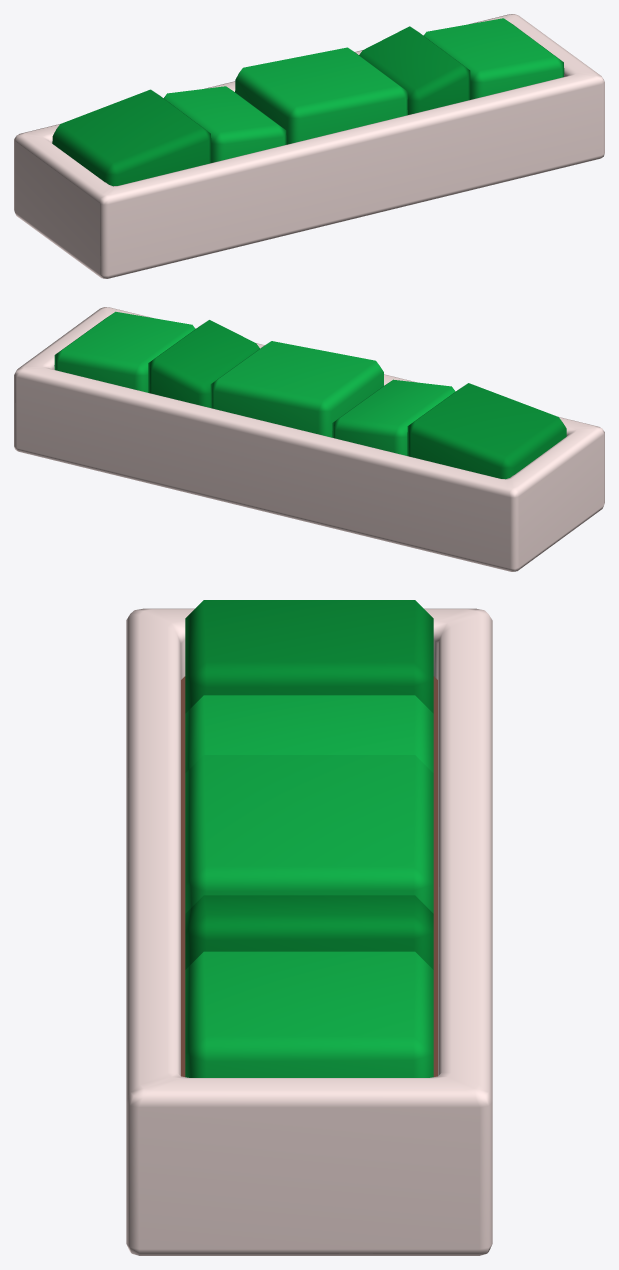
The model's file is Store_1_Plant_1.glb.
3 renders of one model, top to bottom at view 1: azimuth 30°, elevation 25°; view 2: azimuth 150°, elevation 25°; view 3: azimuth 270°, elevation 25°, orthographic. The views are drawn at different scales.
Parts seen in each view (by area): view 1: Store_1_Plant_1; view 2: Store_1_Plant_1; view 3: Store_1_Plant_1.
Boxes of the visible parts, box(x1,y1,x2,y2) form: Store_1_Plant_1: box(14, 14, 604, 278); Store_1_Plant_1: box(14, 307, 604, 571); Store_1_Plant_1: box(126, 600, 492, 1255).
Bounding box in the file's own units: 3.48 × 0.7349 × 1.09.
1 material, 1 textured.
